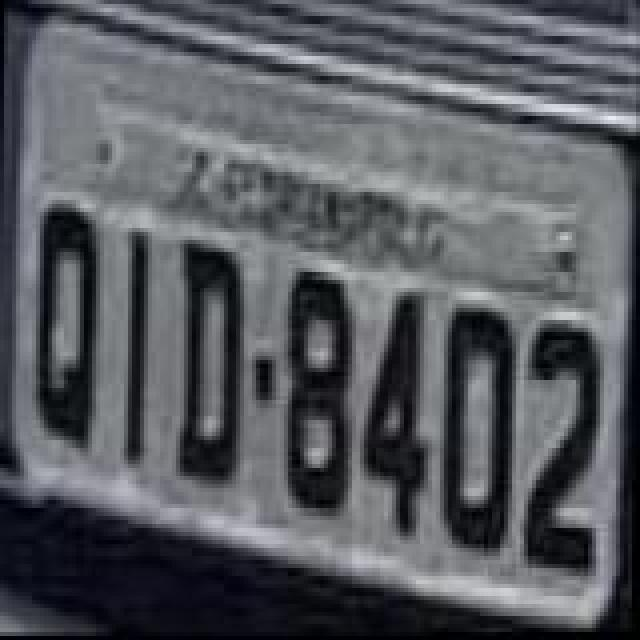1: (120, 222, 156, 470)
2: (522, 322, 606, 578)
4: (356, 290, 436, 538)
8: (276, 272, 356, 520)
D: (178, 240, 250, 488)
O: (440, 300, 520, 556)
Q: (34, 196, 106, 452)
